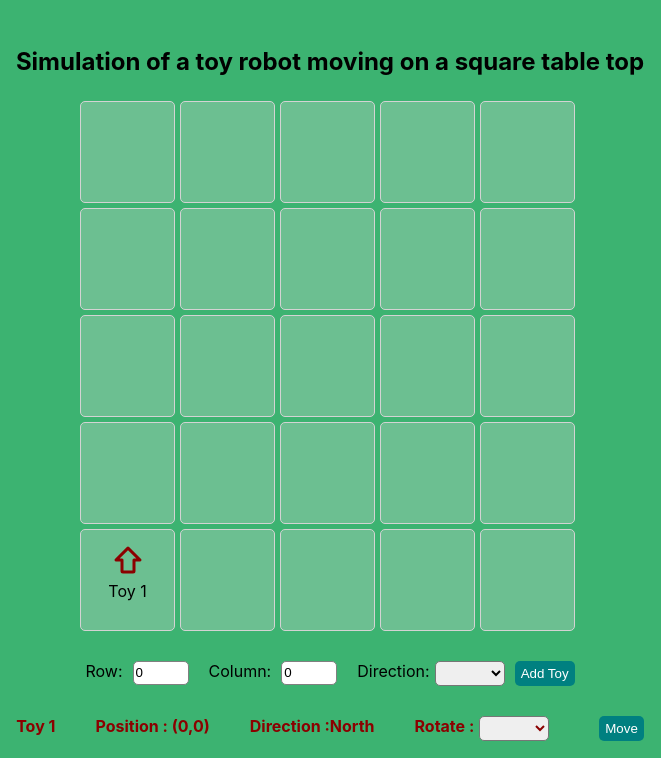
Test: Simulation of toy over square table top › renders error message when direction is not selected
Step 1. Click the button "Add Toy" → (545, 673), box [515, 661, 574, 686]
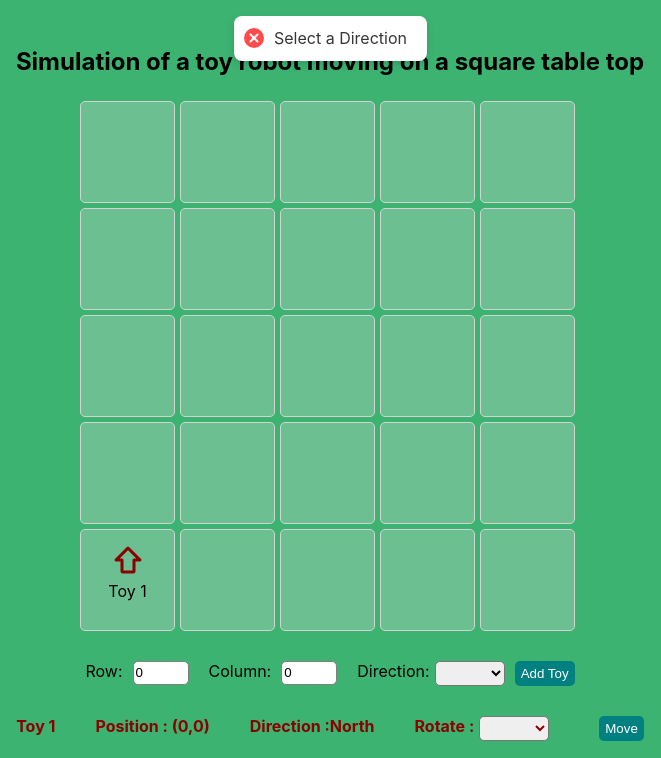
Now the text "Select a Direction" is shown, box [274, 28, 406, 49]
